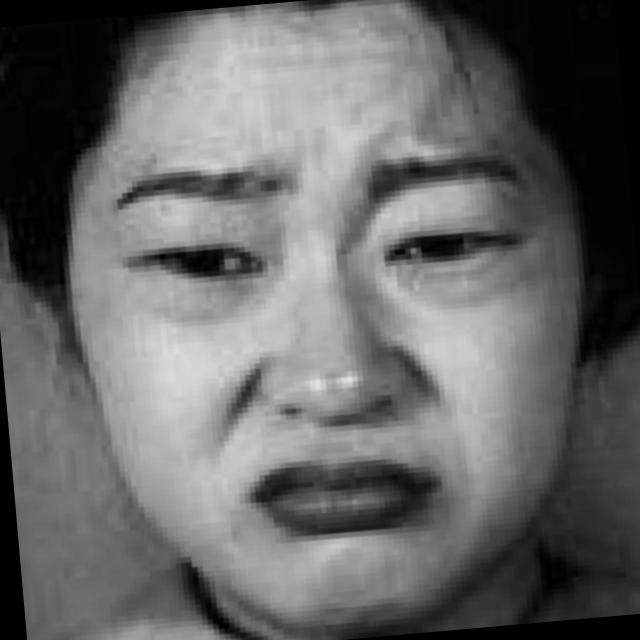disgust: (64, 20, 598, 640)
